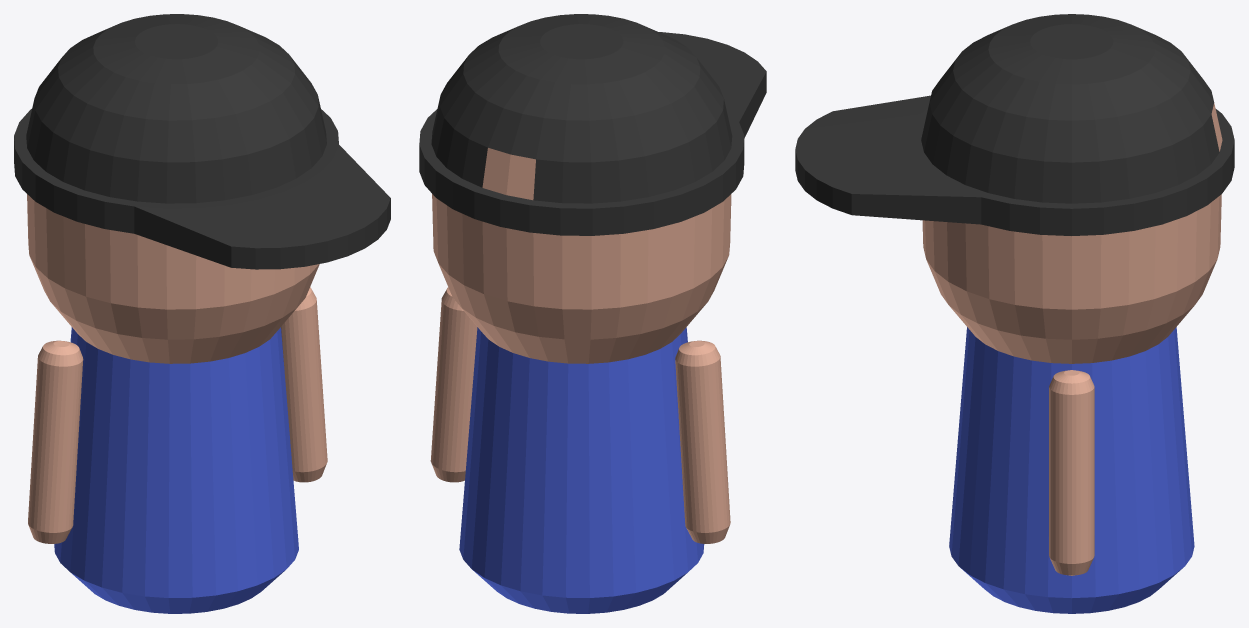
The picture shows the model from 3 angles, left to right: view 1: azimuth 30°, elevation 25°; view 2: azimuth 150°, elevation 25°; view 3: azimuth 270°, elevation 25°; orthographic projection.
Parts seen in each view (by area): view 1: On; view 2: On; view 3: On.
Part boxes in pixels (x1=…): On: x1=14, y1=14, x2=390, y2=613; On: x1=419, y1=14, x2=766, y2=613; On: x1=795, y1=14, x2=1234, y2=613.
Size of the model in its own units: 94 by 163 by 122.
